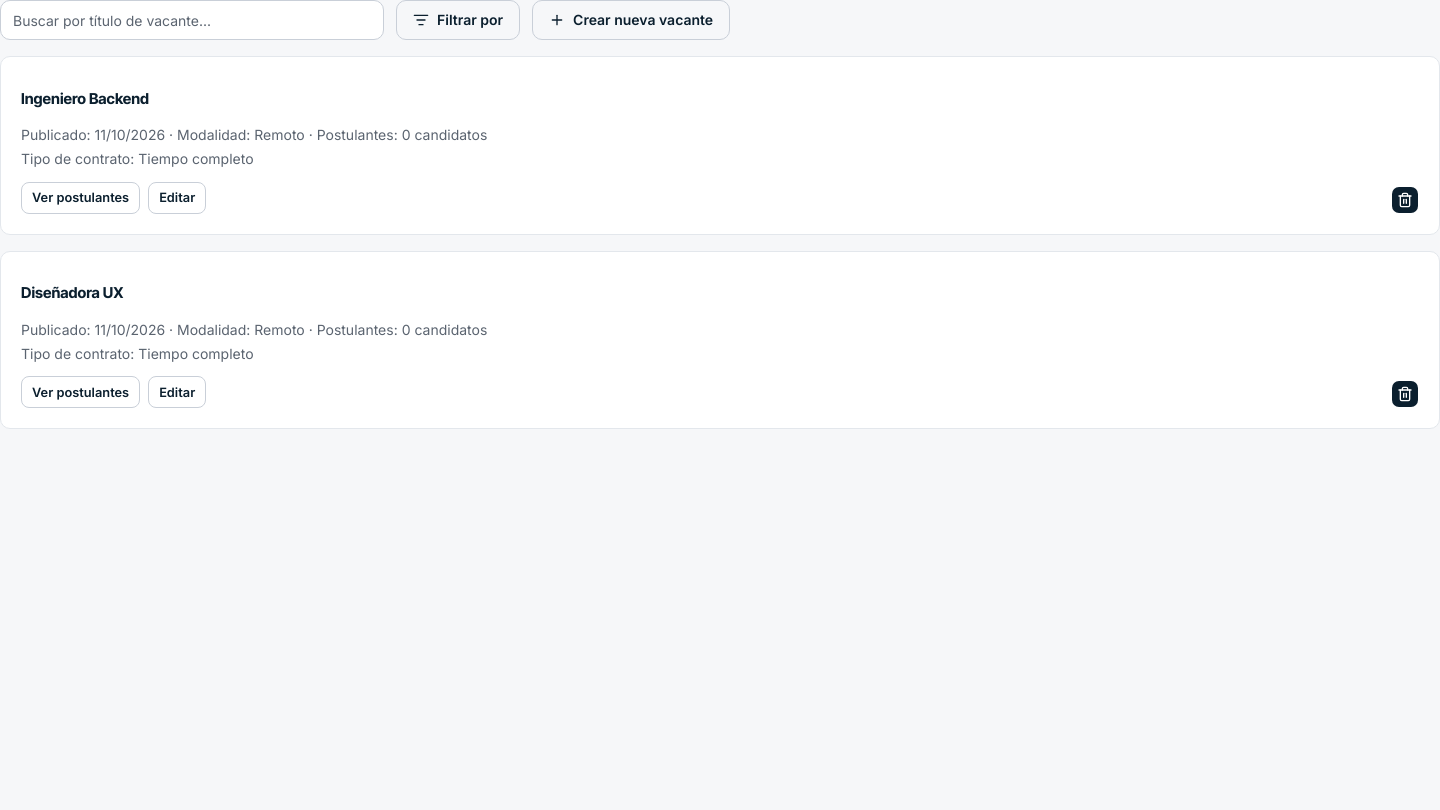
Test: VacancyList en el portal de empresa › pide confirmación mostrando el título y cancelar no elimina
The image size is (1440, 810).
Click the button named "Eliminar vacante Ingeniero Backend" at (1405, 200), box top-left (1391, 186), bottom-right (1419, 214)
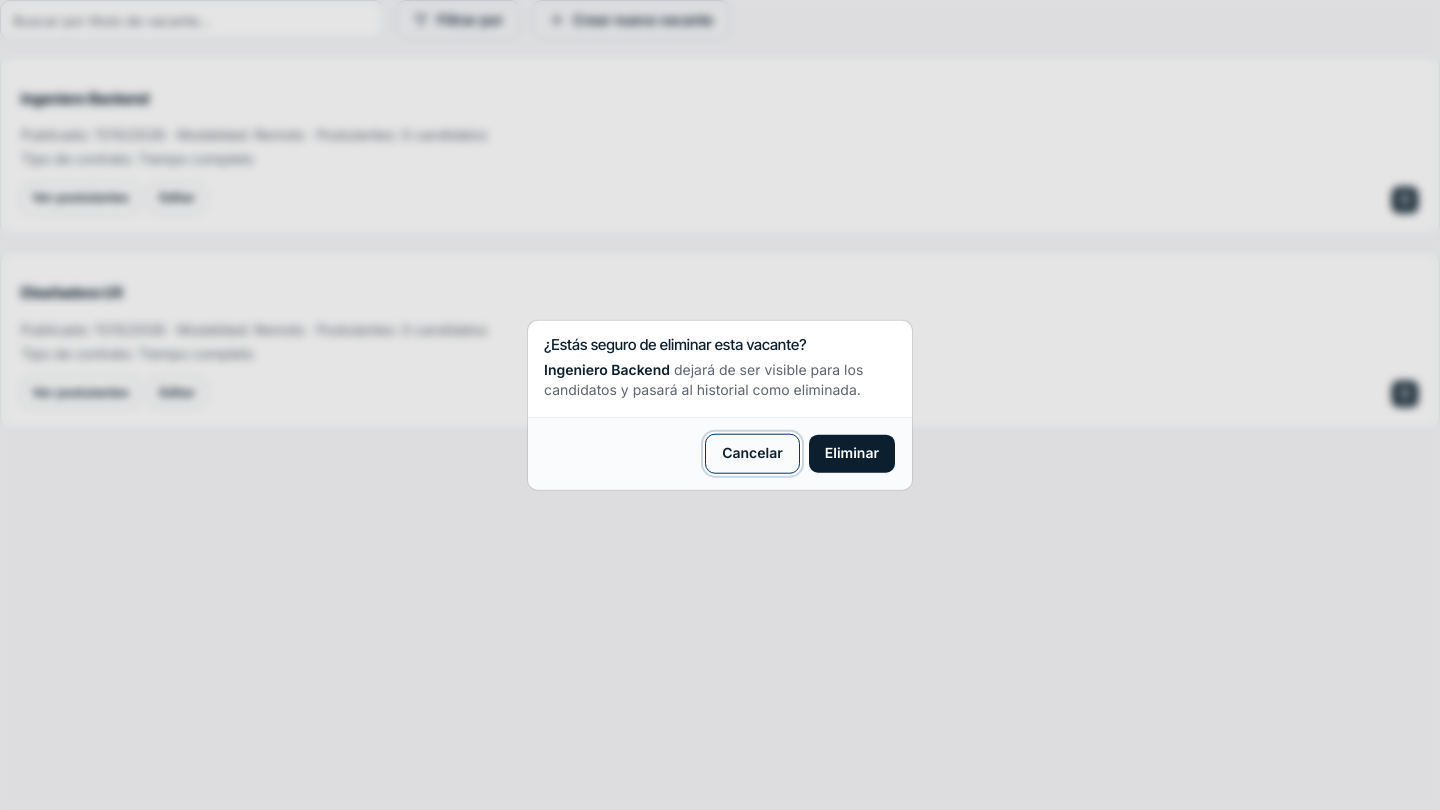
Result: the heading "¿Estás seguro de eliminar esta vacante?" is shown at top-left (544, 335), bottom-right (806, 354)
Result: the text "Ingeniero Backend" is shown at top-left (544, 361), bottom-right (670, 378)
Click the button "Cancelar" at (752, 453), box top-left (705, 433), bottom-right (800, 473)
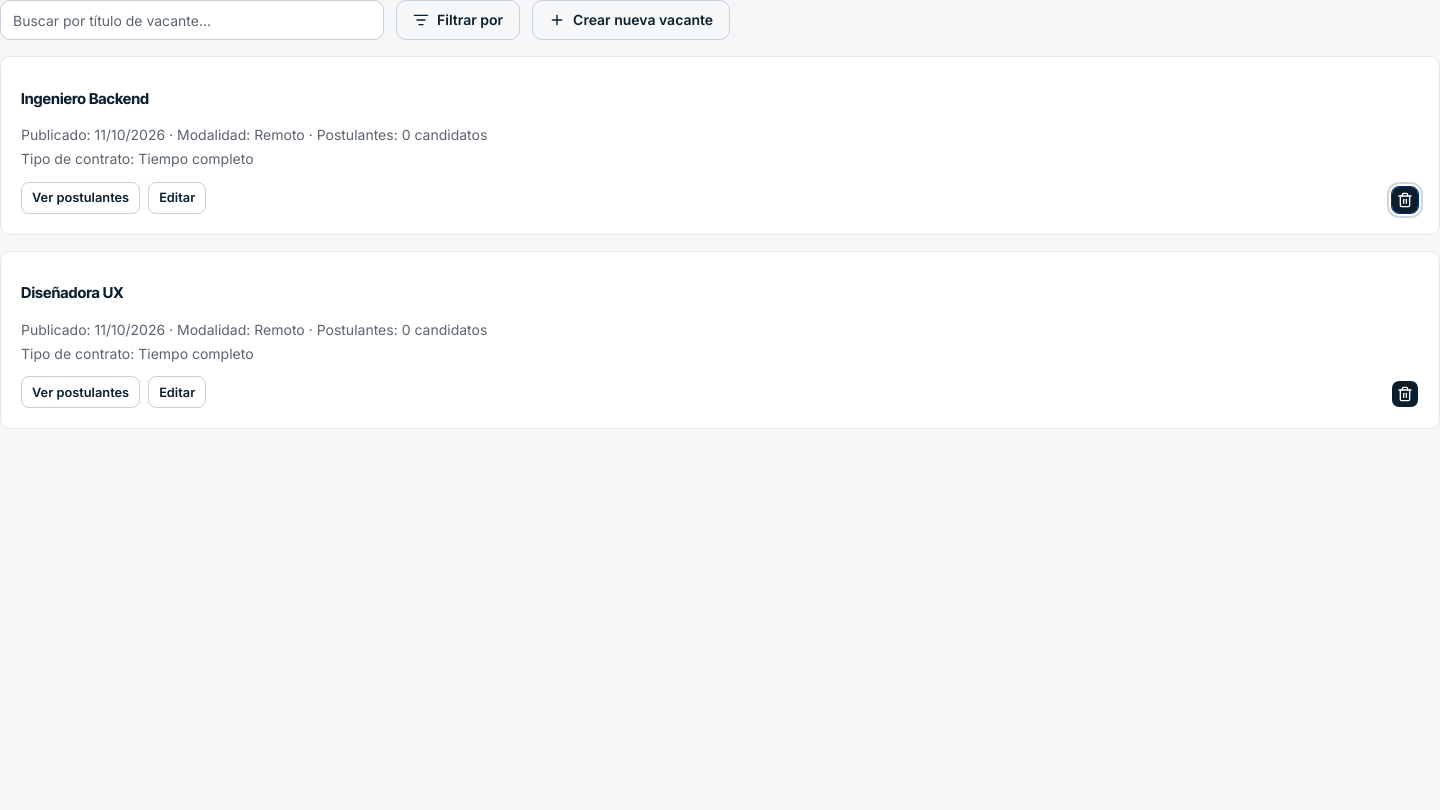
Result: the dialog is gone
